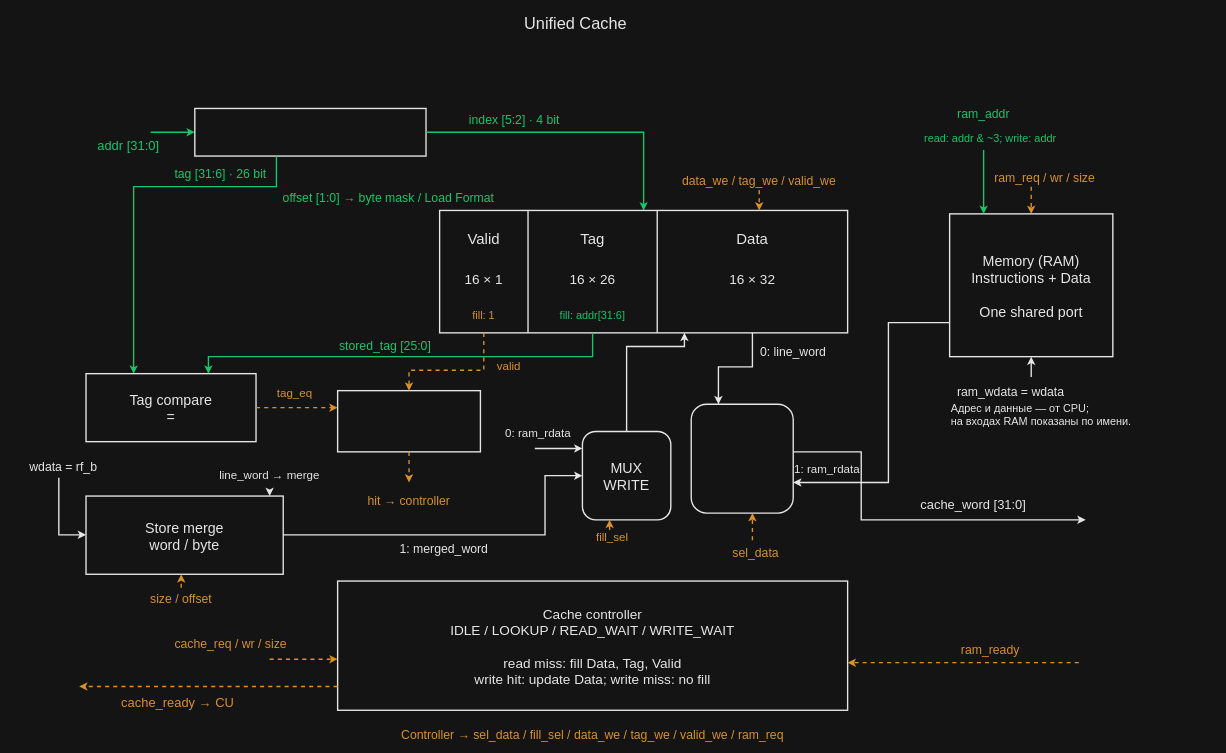
This 1226x753 diagram has some shape labels left out. The centre of each missing label's shape, as x and y in pixels:
Address split: the point at 310,131
AND: the point at 409,421
MUX READ: the point at 742,458
